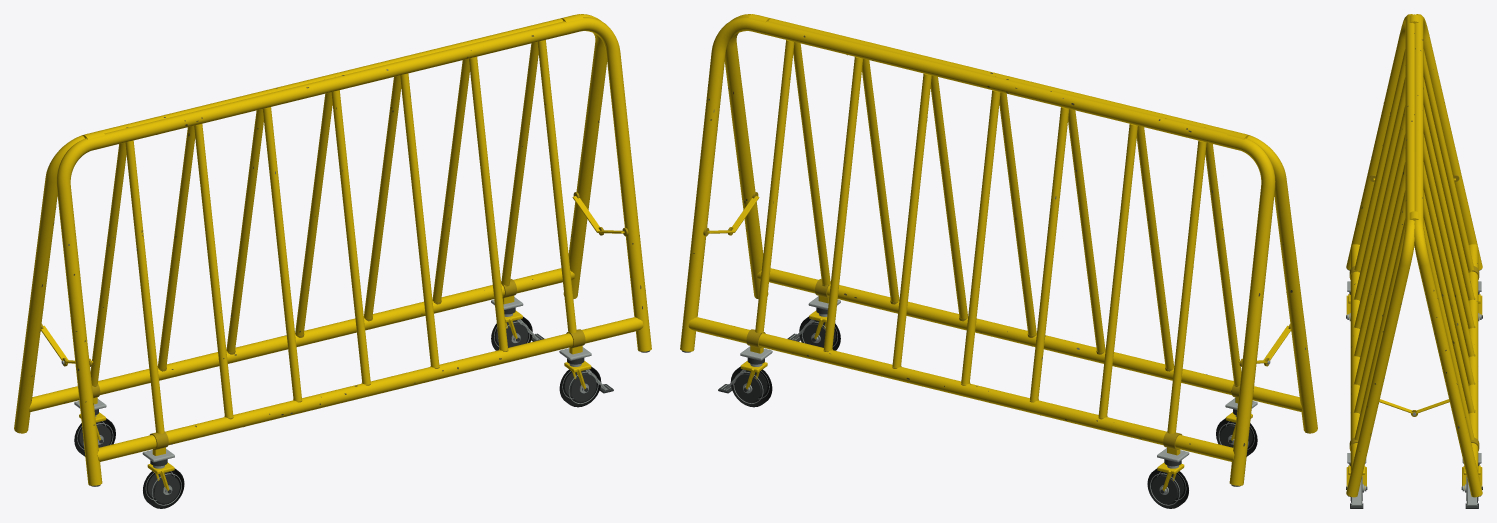
Rendered from Yellow-Barrier.glb.
The picture shows the model from 3 angles, left to right: view 1: azimuth 30°, elevation 25°; view 2: azimuth 150°, elevation 25°; view 3: azimuth 270°, elevation 25°; orthographic projection. The views are drawn at different scales.
Visible parts, largest first — view 1: Front panel • continuous rounded outer frame, Rear panel • continuous rounded outer frame, Front panel • lower cross rail, Rear panel • lower cross rail, Front panel • vertical tube 02, Front panel • vertical tube 06, Front panel • vertical tube 05, Front panel • vertical tube 04, Front panel • vertical tube 03, Front panel • vertical tube 07, Front panel • vertical tube 01, Rear panel • vertical tube 03 (+6 smaller); view 2: Rear panel • continuous rounded outer frame, Front panel • continuous rounded outer frame, Rear panel • lower cross rail, Front panel • lower cross rail, Rear panel • vertical tube 06, Rear panel • vertical tube 02, Rear panel • vertical tube 05, Rear panel • vertical tube 03, Rear panel • vertical tube 04, Rear panel • vertical tube 01, Rear panel • vertical tube 07, Front panel • vertical tube 03 (+6 smaller); view 3: Front panel • continuous rounded outer frame, Rear panel • continuous rounded outer frame, Rear panel • lower cross rail, Front panel • lower cross rail, Front panel • vertical tube 03, Rear panel • vertical tube 03, Rear panel • vertical tube 04, Front panel • vertical tube 02, Front panel • vertical tube 04, Front panel • vertical tube 05, Front panel • vertical tube 06, Rear panel • vertical tube 02 (+6 smaller).
Part boxes in pixels (left/top/right/bottom): Front panel • continuous rounded outer frame: left=56, top=17, right=651, bottom=485; Rear panel • continuous rounded outer frame: left=14, top=14, right=607, bottom=433; Front panel • lower cross rail: left=97, top=317, right=643, bottom=461; Rear panel • lower cross rail: left=29, top=268, right=574, bottom=412; Front panel • vertical tube 02: left=194, top=124, right=233, bottom=418; Front panel • vertical tube 06: left=469, top=56, right=508, bottom=351; Front panel • vertical tube 05: left=400, top=73, right=439, bottom=367; Front panel • vertical tube 04: left=331, top=90, right=370, bottom=384; Front panel • vertical tube 03: left=262, top=107, right=301, bottom=401; Front panel • vertical tube 07: left=537, top=40, right=576, bottom=333; Front panel • vertical tube 01: left=125, top=140, right=164, bottom=433; Rear panel • vertical tube 03: left=226, top=109, right=263, bottom=352; Rear panel • continuous rounded outer frame: left=680, top=17, right=1275, bottom=485; Front panel • continuous rounded outer frame: left=724, top=14, right=1317, bottom=433; Rear panel • lower cross rail: left=688, top=317, right=1234, bottom=461; Front panel • lower cross rail: left=757, top=268, right=1302, bottom=412; Rear panel • vertical tube 06: left=823, top=56, right=862, bottom=351; Rear panel • vertical tube 02: left=1098, top=124, right=1137, bottom=418; Rear panel • vertical tube 05: left=892, top=73, right=931, bottom=367; Rear panel • vertical tube 03: left=1030, top=107, right=1069, bottom=401; Rear panel • vertical tube 04: left=961, top=90, right=1000, bottom=384; Rear panel • vertical tube 01: left=1167, top=140, right=1206, bottom=433; Rear panel • vertical tube 07: left=755, top=40, right=794, bottom=333; Front panel • vertical tube 03: left=1068, top=109, right=1105, bottom=352; Front panel • continuous rounded outer frame: left=1346, top=14, right=1414, bottom=497; Rear panel • continuous rounded outer frame: left=1414, top=14, right=1482, bottom=497; Rear panel • lower cross rail: left=1469, top=244, right=1478, bottom=472; Front panel • lower cross rail: left=1350, top=244, right=1359, bottom=472; Front panel • vertical tube 03: left=1354, top=105, right=1405, bottom=328; Rear panel • vertical tube 03: left=1423, top=105, right=1474, bottom=328; Rear panel • vertical tube 04: left=1423, top=134, right=1474, bottom=356; Front panel • vertical tube 02: left=1354, top=77, right=1405, bottom=299; Front panel • vertical tube 04: left=1354, top=134, right=1405, bottom=356; Front panel • vertical tube 05: left=1354, top=162, right=1405, bottom=384; Front panel • vertical tube 06: left=1354, top=190, right=1405, bottom=412; Rear panel • vertical tube 02: left=1423, top=77, right=1474, bottom=299.
Bounding box in the file's own units: 2.45 × 1.49 × 0.614.
